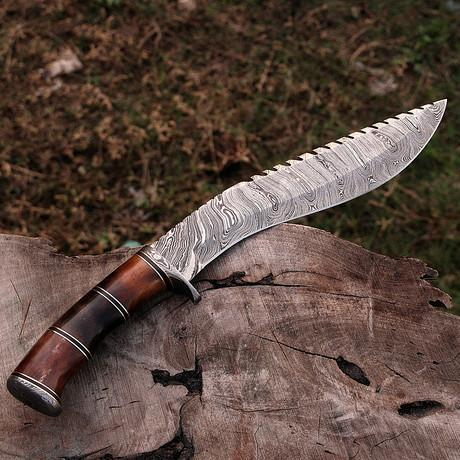facao: (11, 99, 446, 412)
